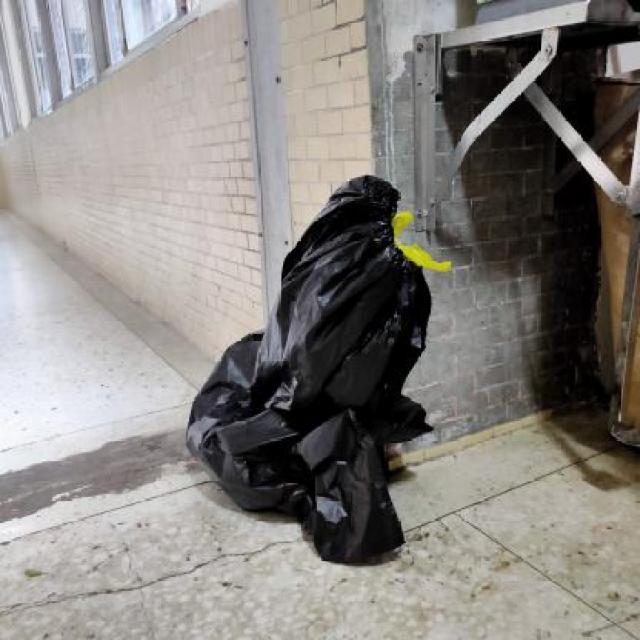waste: (164, 137, 452, 574)
